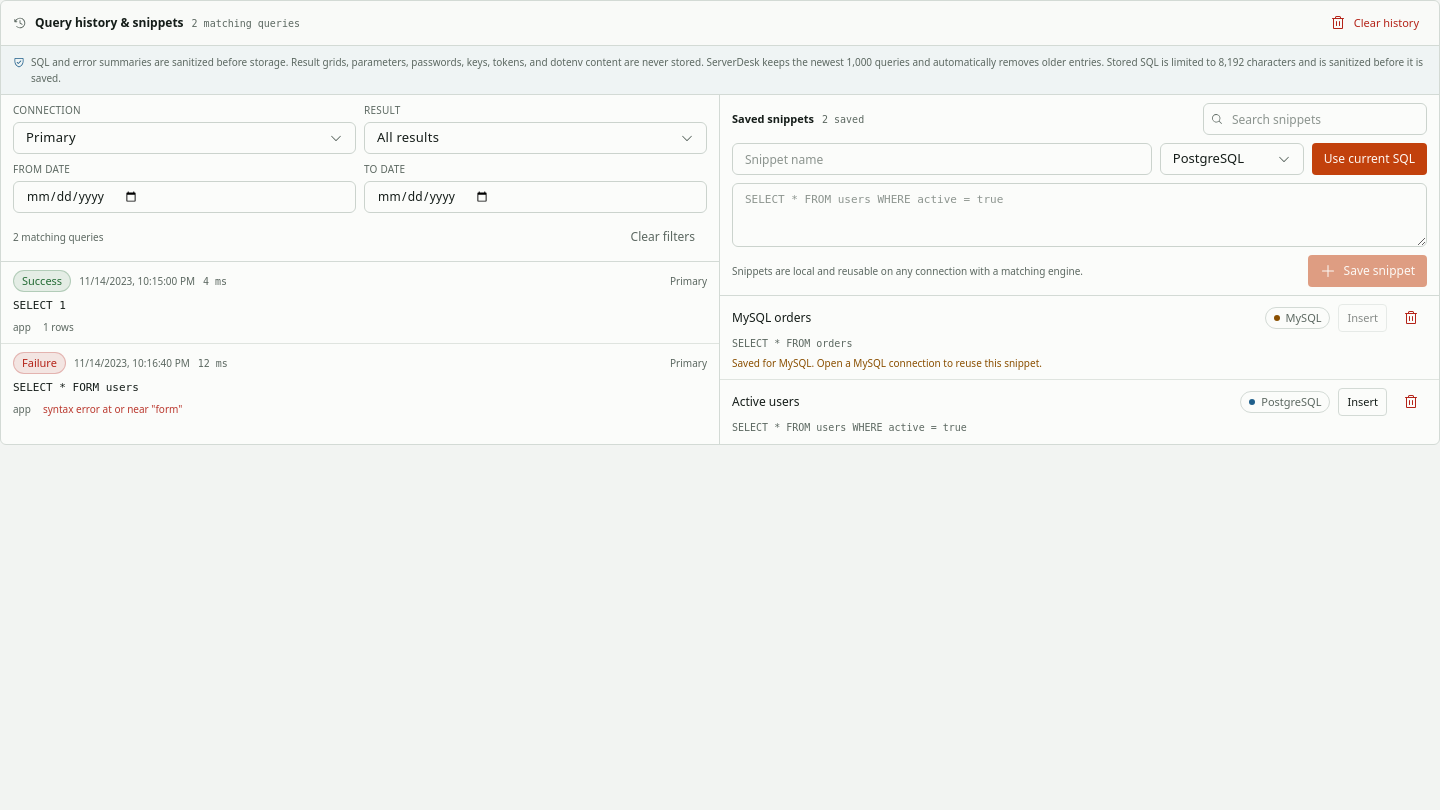
Test: DatabaseSqlHistoryPanel › clears history only after confirmation
Later steps or results of the test are not shown.
Expected: the text "SELECT 1" is shown, [13, 299, 66, 312]
What coordinates should you click on to do the following:
click the button "Clear history"
I would click on:
 (1374, 23)
Its box is [1322, 9, 1427, 37].
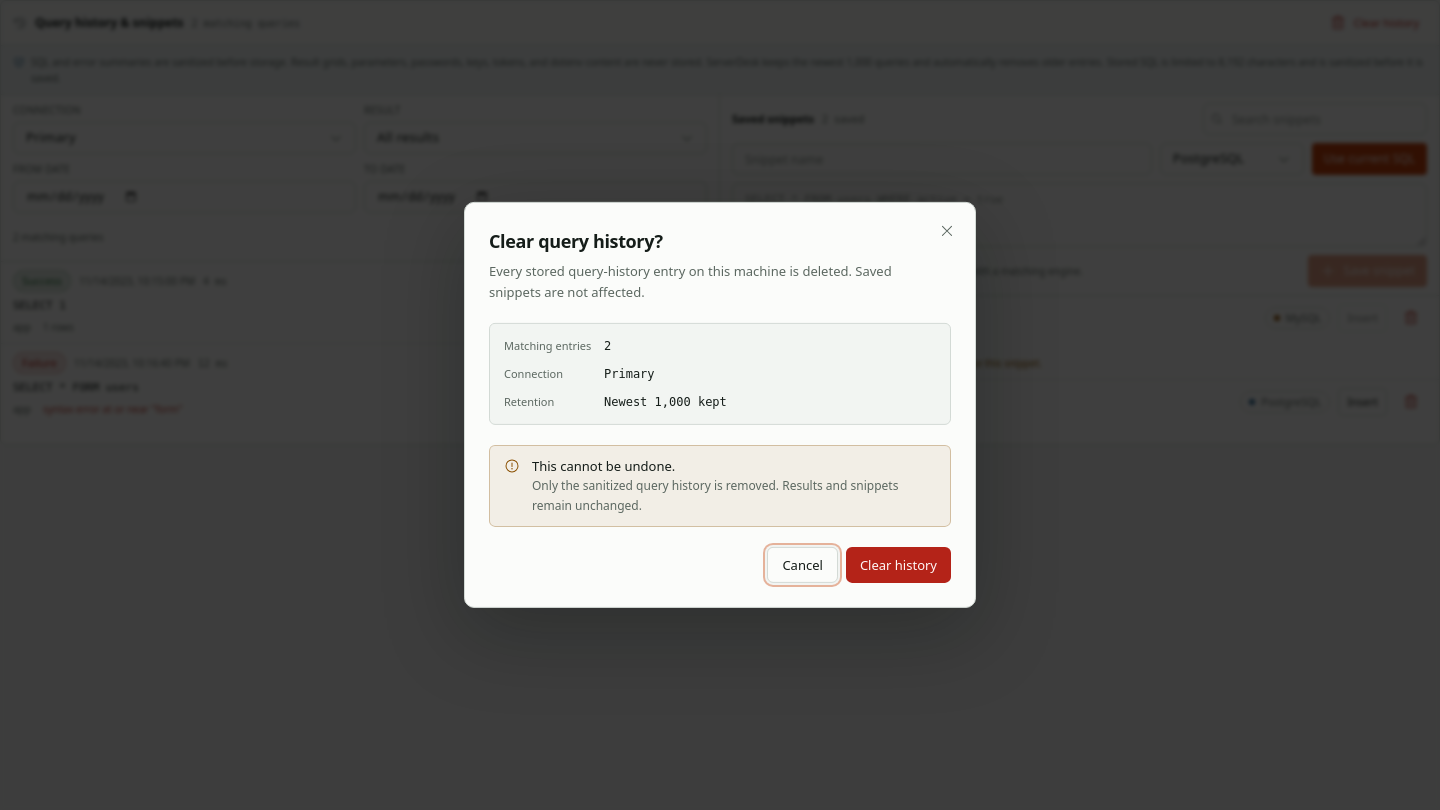
Now the text "Saved snippets are not affected" is shown, box [489, 262, 892, 301]
